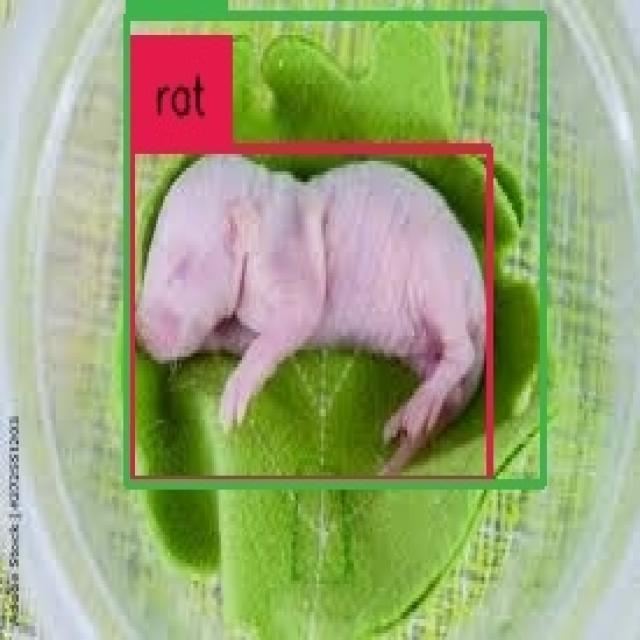rat: (127, 16, 543, 484), (131, 149, 490, 481)
